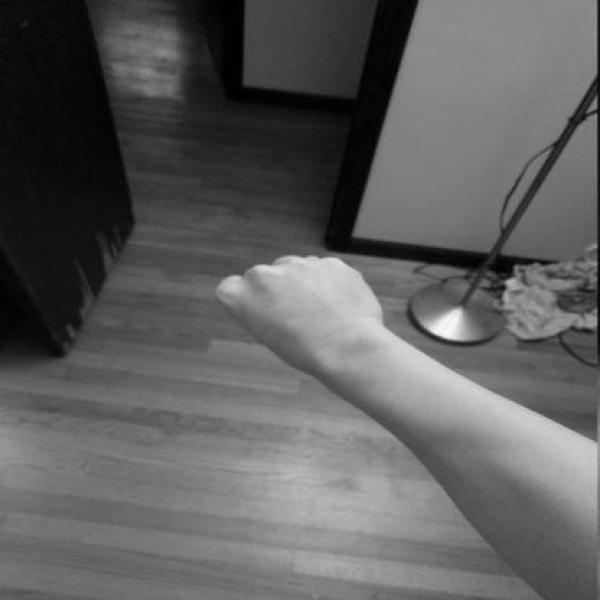M: (208, 250, 391, 386)
